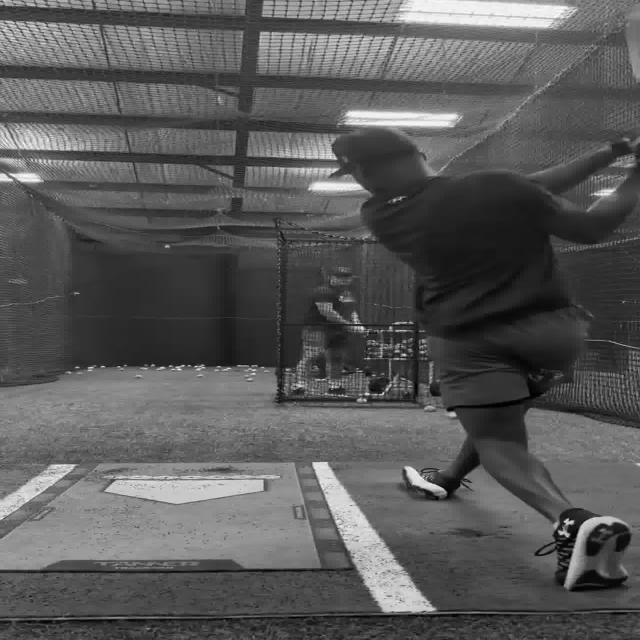baseball: (422, 405, 436, 412), (355, 397, 367, 403), (160, 242, 170, 248), (244, 378, 254, 382), (167, 244, 168, 248)
shoe: (551, 508, 631, 590), (401, 465, 462, 500), (368, 376, 390, 394), (326, 380, 345, 394), (286, 383, 305, 397), (289, 382, 307, 390)
